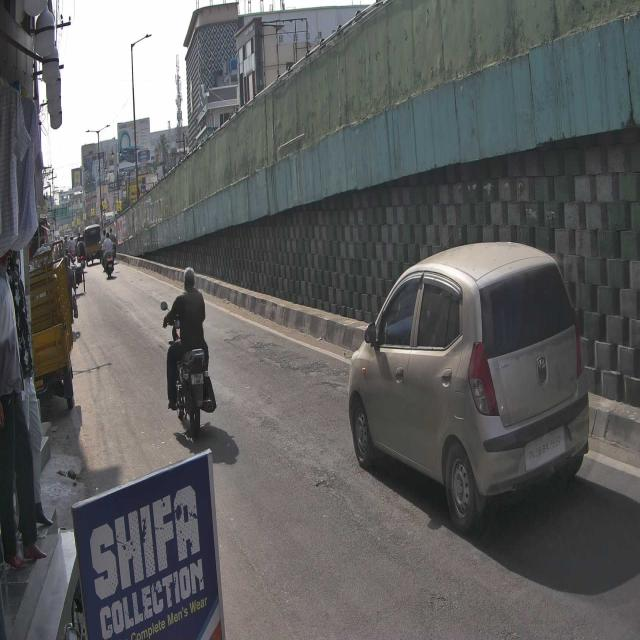single_rider: (160, 266, 217, 440)
